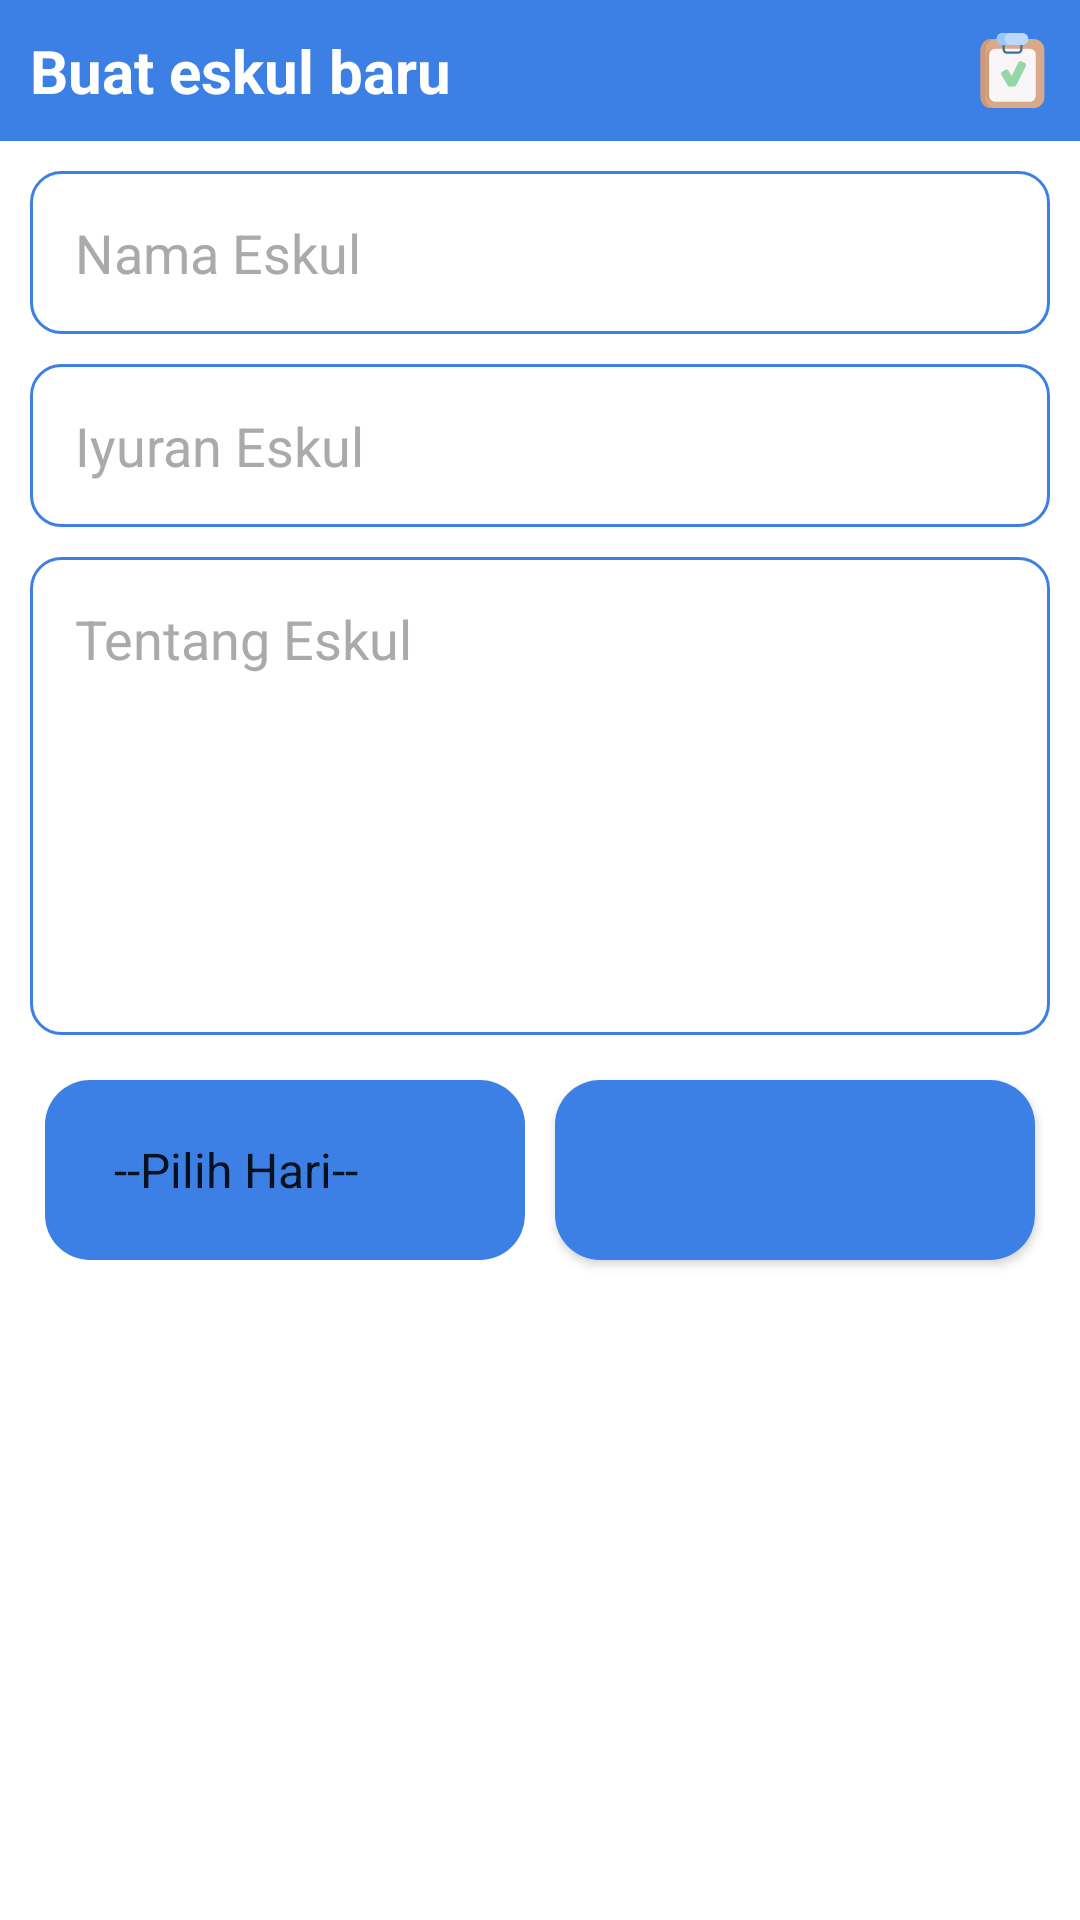

Screen size 1080w x 1920h. Icon name, then its center in pixels as point (x, y):
approved: point (1012, 70)
